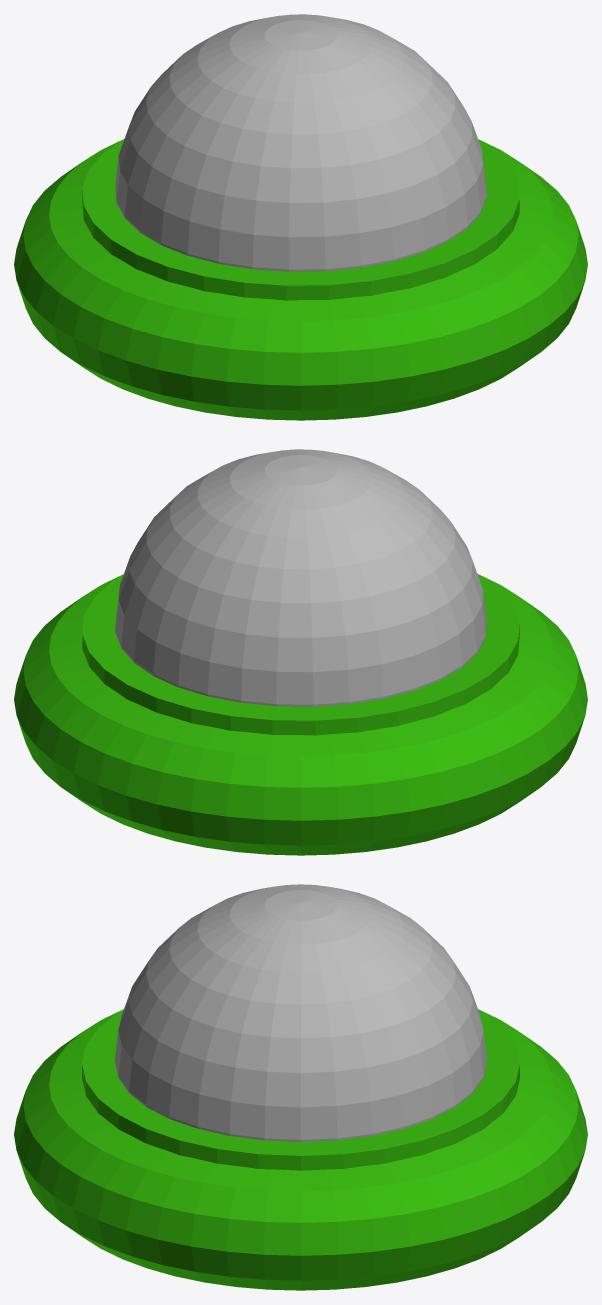
Rendered from EnemyUFO.fbx.
The picture shows the model from 3 angles, top to bottom: view 1: azimuth 30°, elevation 25°; view 2: azimuth 150°, elevation 25°; view 3: azimuth 270°, elevation 25°; orthographic projection.
Parts seen in each view (by area): view 1: Sphere; view 2: Sphere; view 3: Sphere.
Boxes of the visible parts, x1=… form: Sphere: x1=14, y1=14, x2=587, y2=420; Sphere: x1=14, y1=449, x2=587, y2=855; Sphere: x1=14, y1=884, x2=587, y2=1290.
Size of the model in its own units: 262 by 145 by 262.
